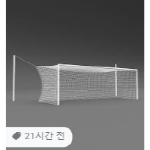goals: (36, 61, 141, 106)
